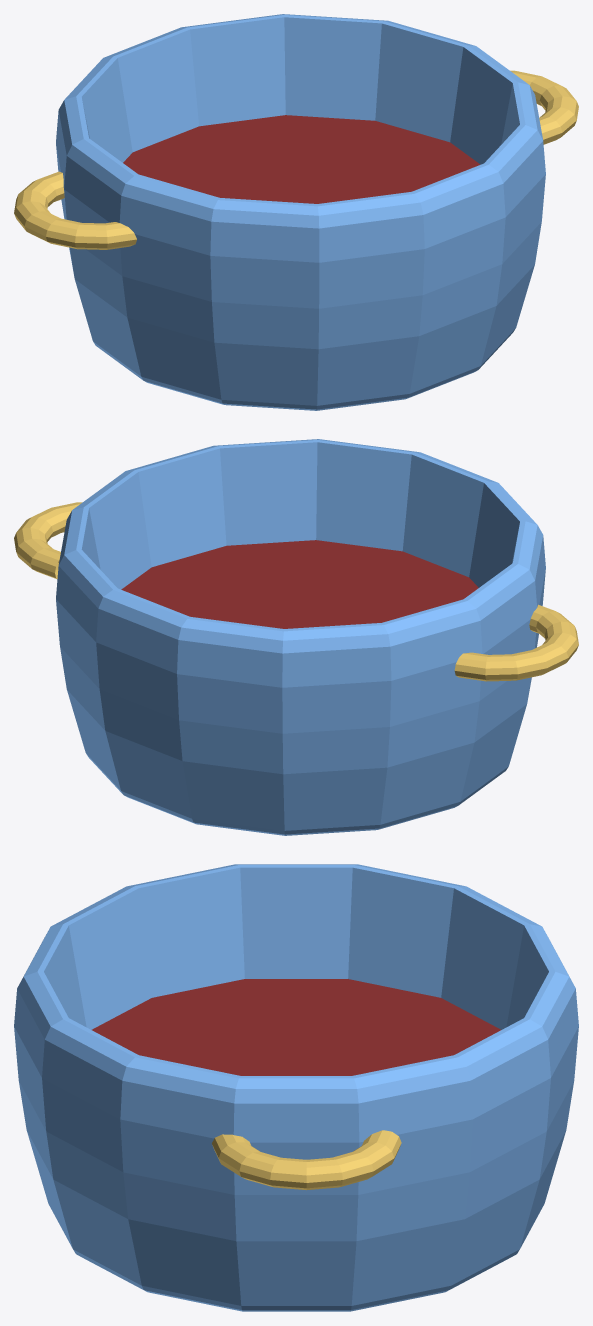
File: Pot_18.fbx
3 renders of one model, top to bottom at view 1: azimuth 30°, elevation 25°; view 2: azimuth 150°, elevation 25°; view 3: azimuth 270°, elevation 25°, orthographic. The views are drawn at different scales.
Parts seen in each view (by area): view 1: Pot_18; view 2: Pot_18; view 3: Pot_18.
Part boxes in pixels (x1=…): Pot_18: x1=14, y1=14, x2=578, y2=410; Pot_18: x1=14, y1=439, x2=578, y2=835; Pot_18: x1=14, y1=864, x2=578, y2=1311.
Bounding box in the file's own units: 0.2508 × 0.094 × 0.1979.
